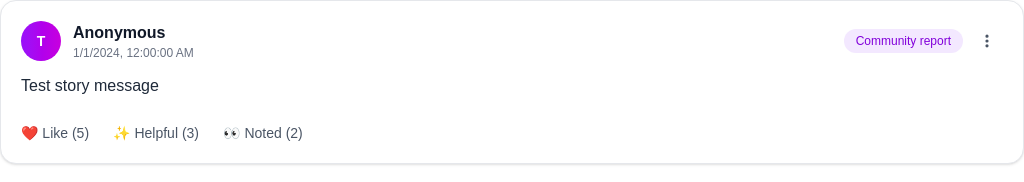
it: StoryCard Three-Dot Menu › should show menu dropdown when three-dot button is clicked
Click the button named "Story options". click: (987, 41)
box: [971, 25, 1003, 57]
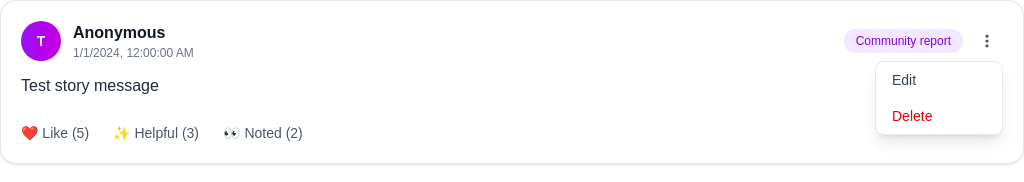
Result: the button "Edit" is shown at [876, 62, 1002, 98]
Result: the button "Delete" is shown at [876, 98, 1002, 134]
